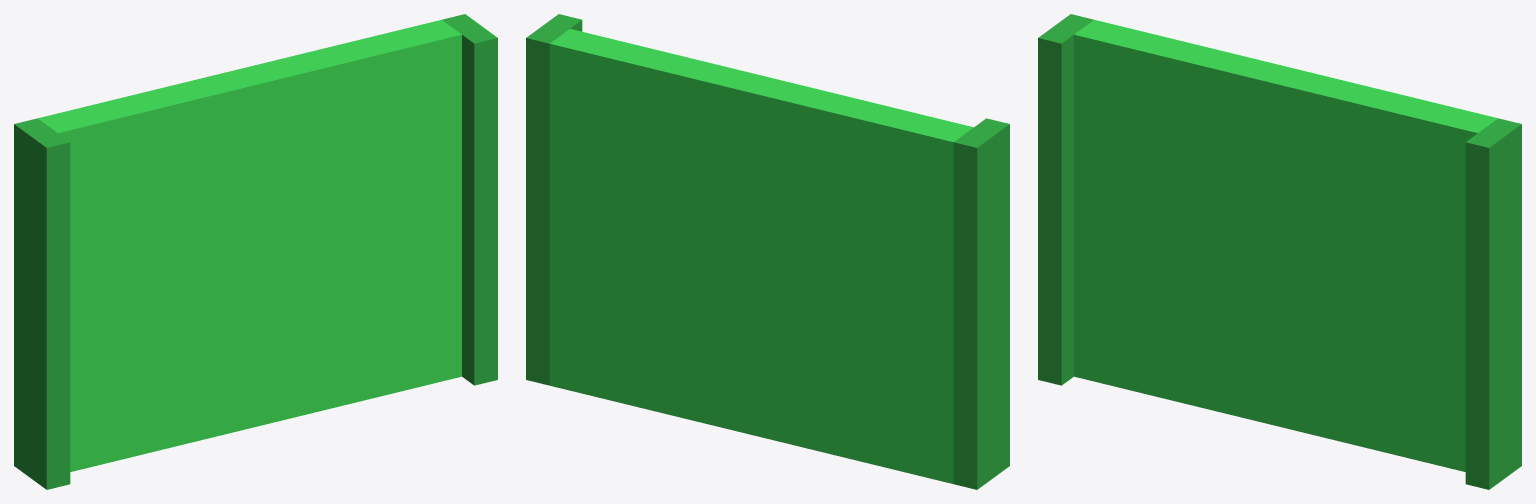
3 views of the same model, side by side, from view 1: azimuth 30°, elevation 25°; view 2: azimuth 150°, elevation 25°; view 3: azimuth 330°, elevation 25° (orthographic).
Parts seen in each view (by area): view 1: Cube.001; view 2: Cube.001; view 3: Cube.001.
Part boxes in pixels (<box>): Cube.001: <box>14,14,497,489</box>; Cube.001: <box>526,14,1009,489</box>; Cube.001: <box>1038,14,1521,489</box>.
Bounding box in the file's own units: 128 × 93.03 × 16.14.
